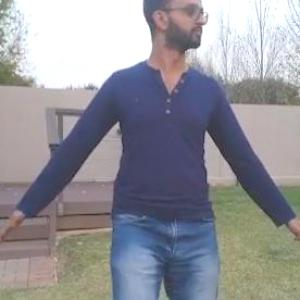land: (7, 0, 299, 299)
